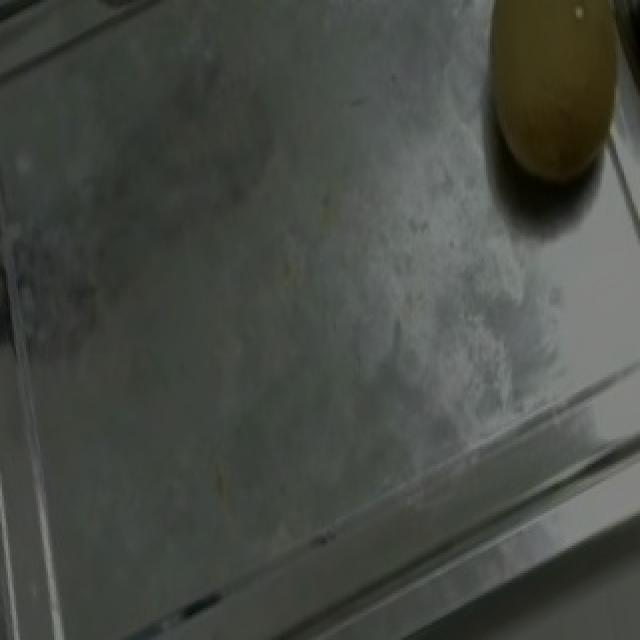Fruit: (448, 0, 640, 218)
